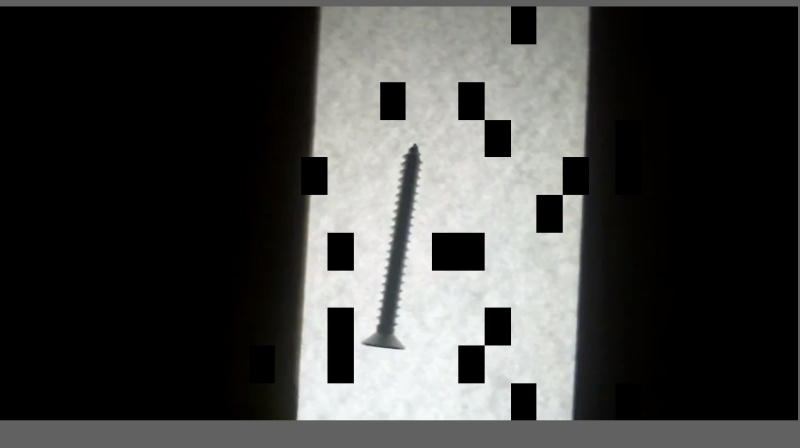S002: (358, 139, 424, 353)
